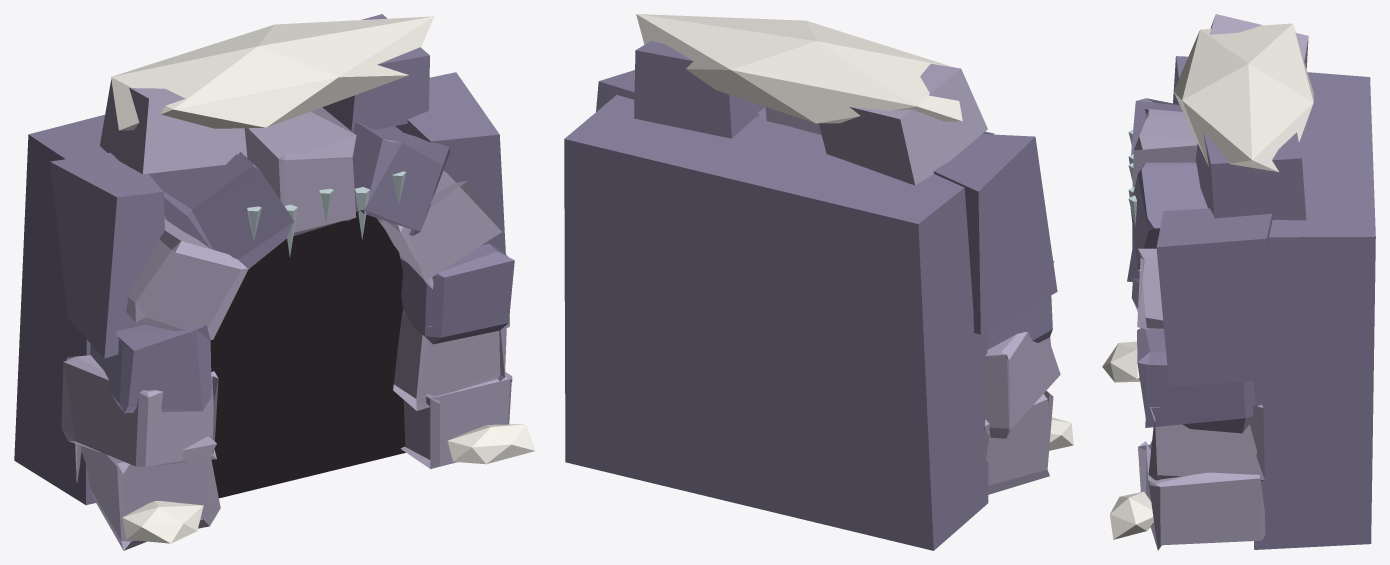
Rendered from sb_cave_entrance.glb.
3 renders of one model, left to right at view 1: azimuth 30°, elevation 25°; view 2: azimuth 150°, elevation 25°; view 3: azimuth 270°, elevation 25°, orthographic. The views are drawn at different scales.
Visible parts, largest first — view 1: cave_entrance; view 2: cave_entrance; view 3: cave_entrance.
Boxes of the visible parts, x1,y1,x2,y2 form: cave_entrance: (14,14,535,550); cave_entrance: (564,14,1073,550); cave_entrance: (1102,14,1375,550).
Bounding box in the file's own units: 2.02 × 2.02 × 1.25.
